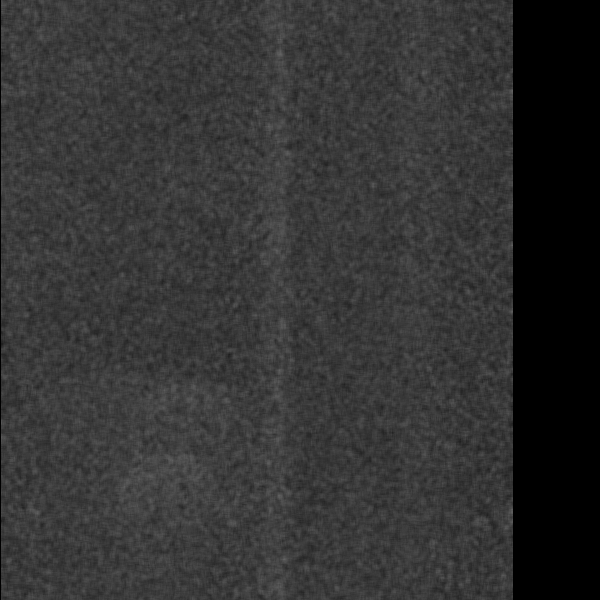spark: (234, 307, 318, 380), (78, 10, 129, 53), (92, 296, 128, 353)
